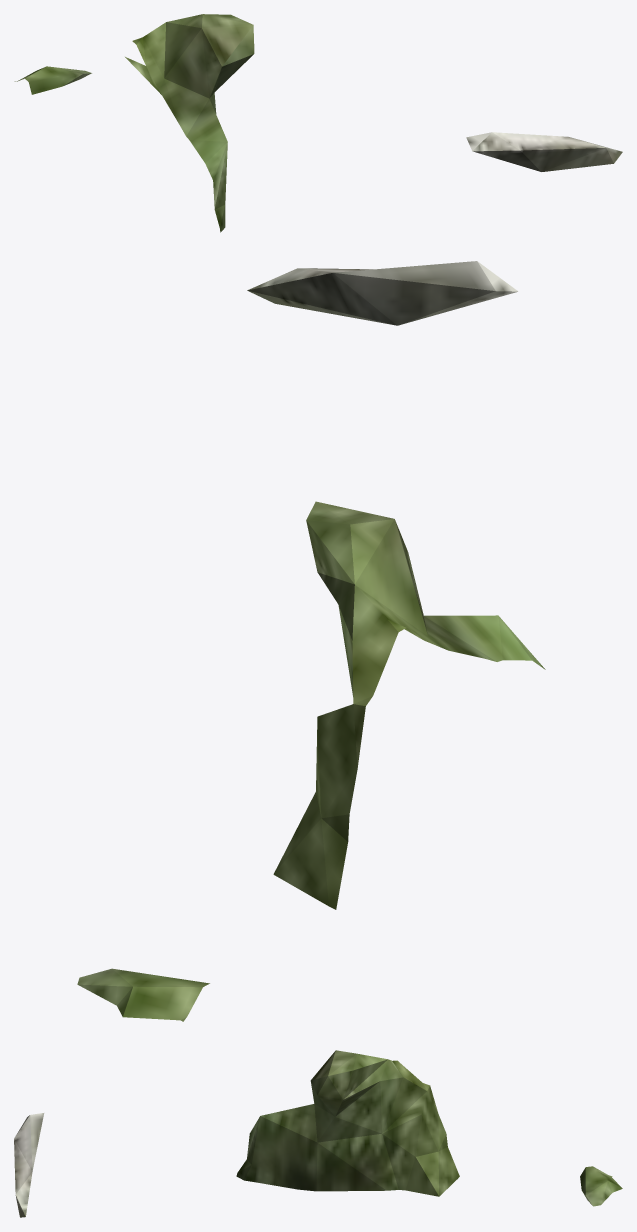
3 renders of one model, top to bottom at view 1: azimuth 30°, elevation 25°; view 2: azimuth 150°, elevation 25°; view 3: azimuth 270°, elevation 25°, orthographic. The views are drawn at different scales.
Bounding box in the file's own units: 0.7907 × 0.417 × 1.59.
Materials: 1 (1 with a texture image).
